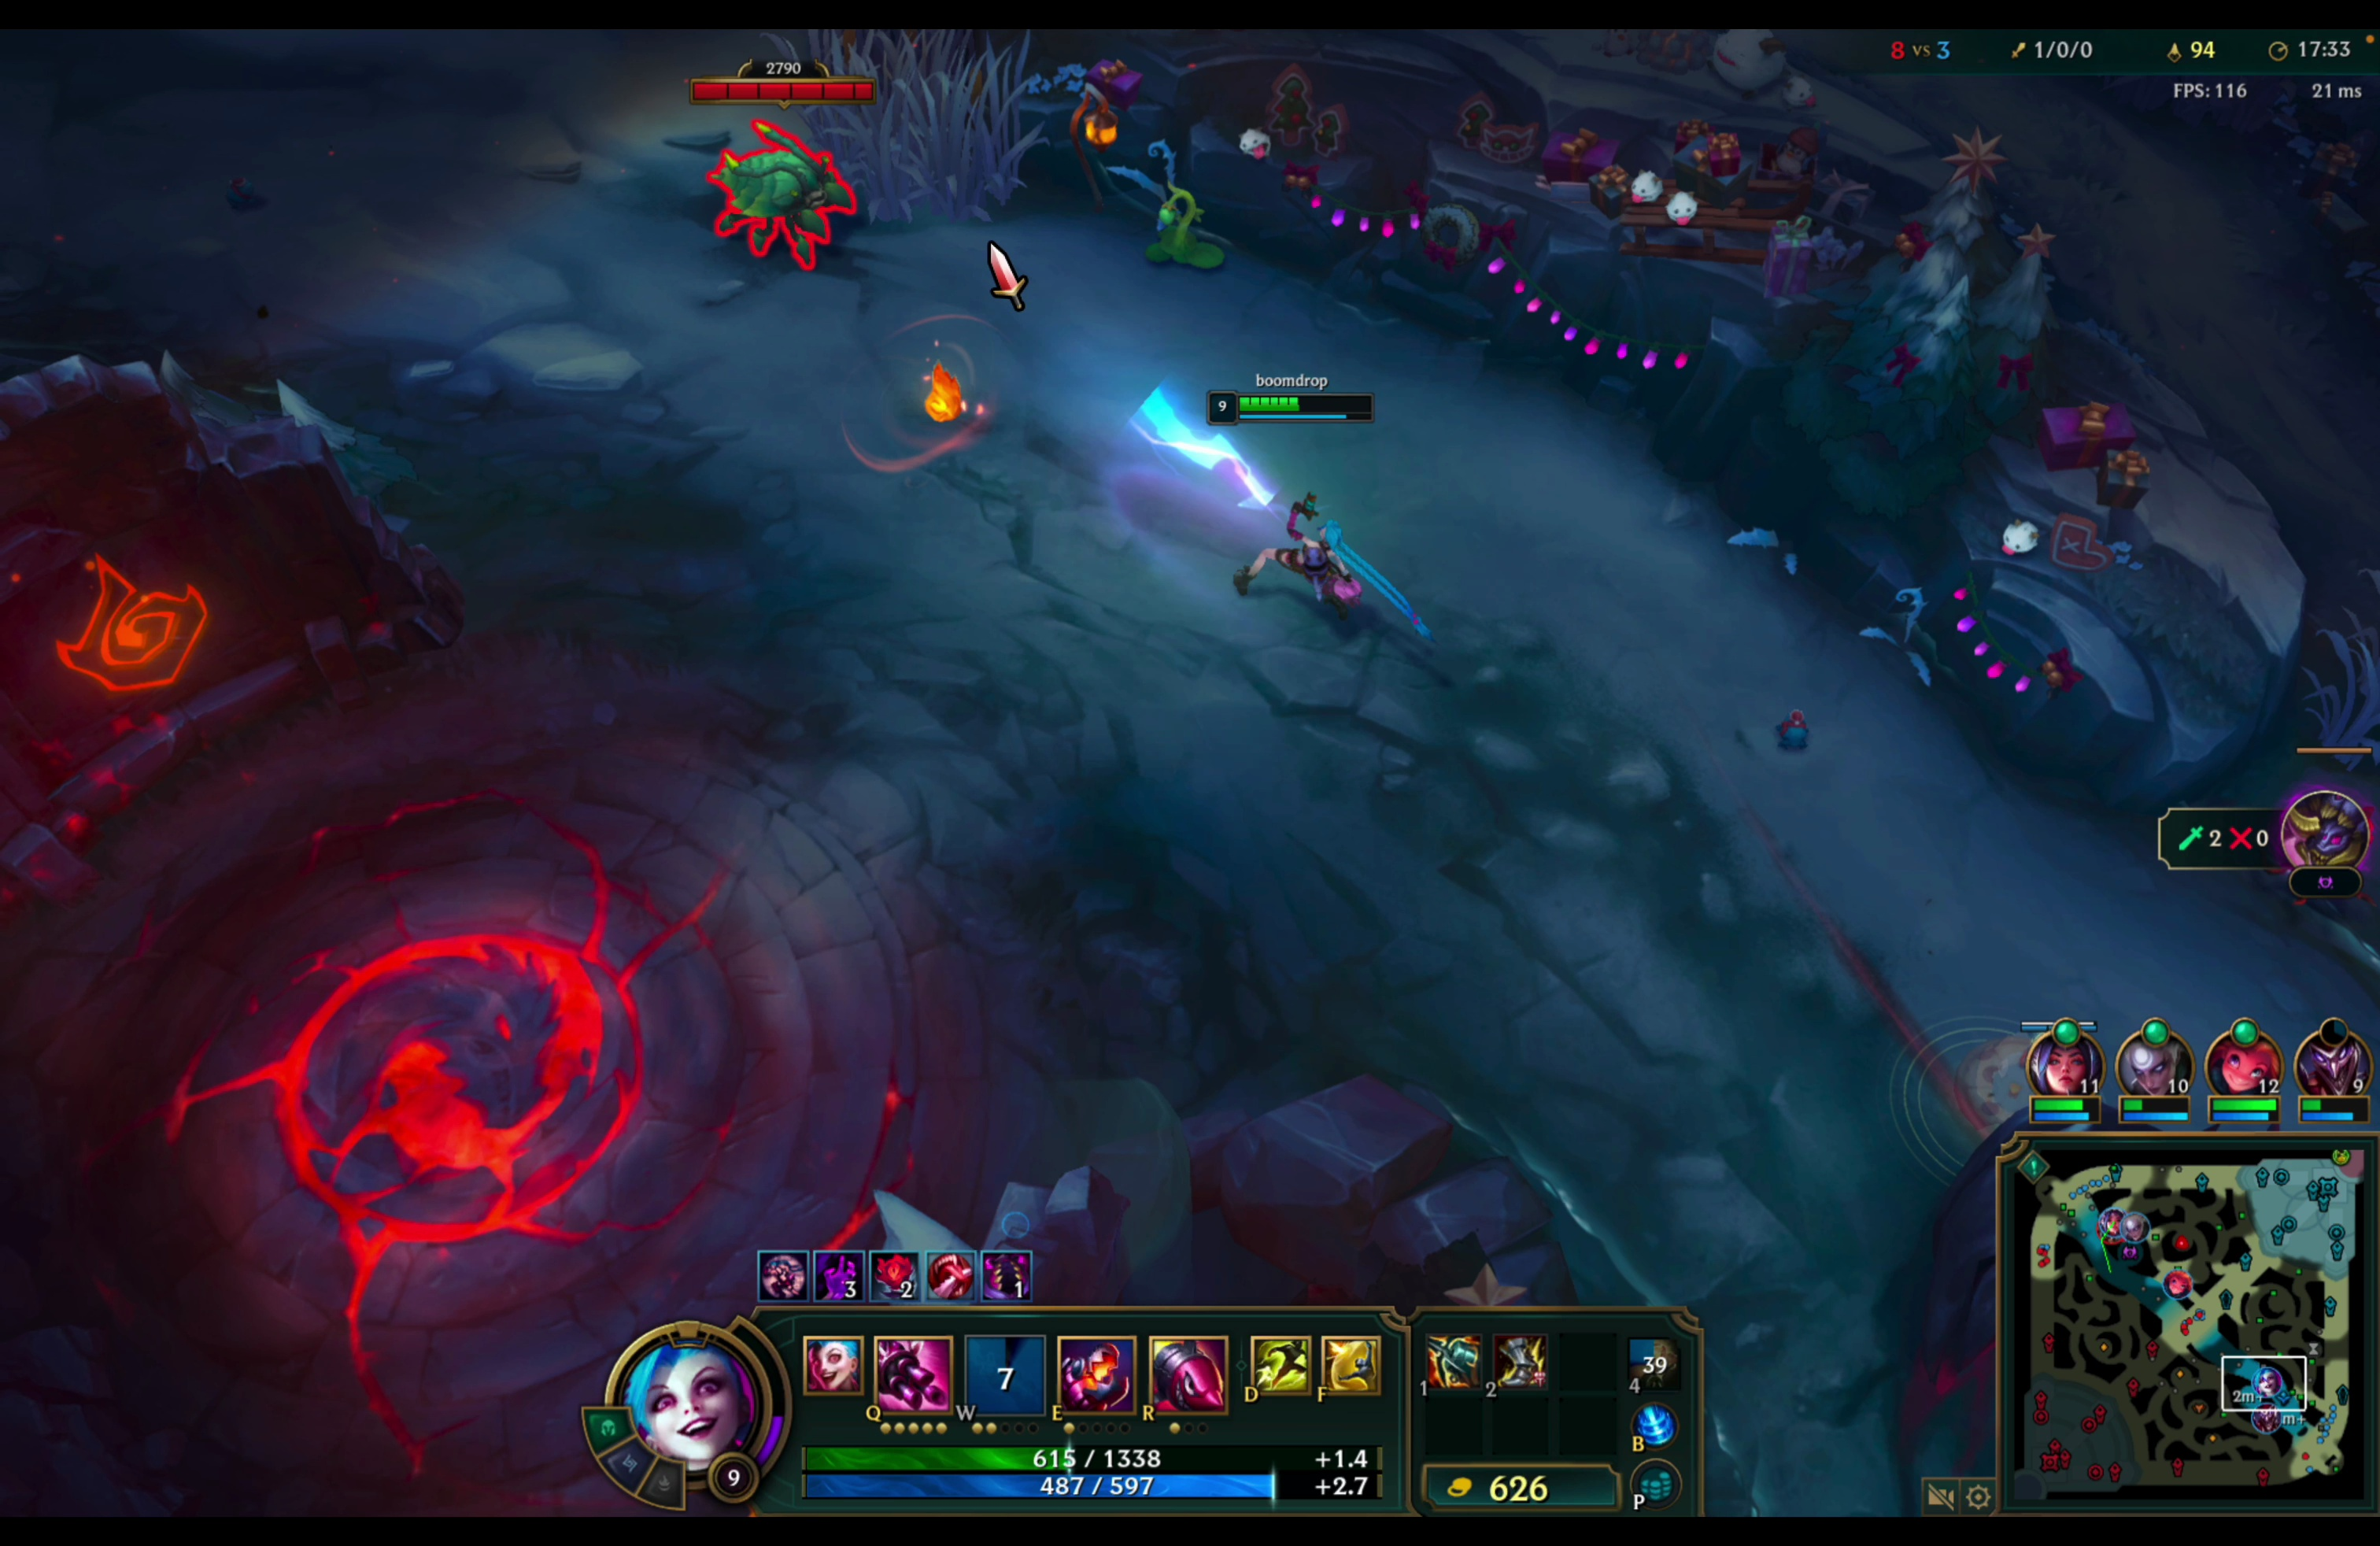LABEL_W_PROJECTILE: (1121, 350, 1400, 642)
